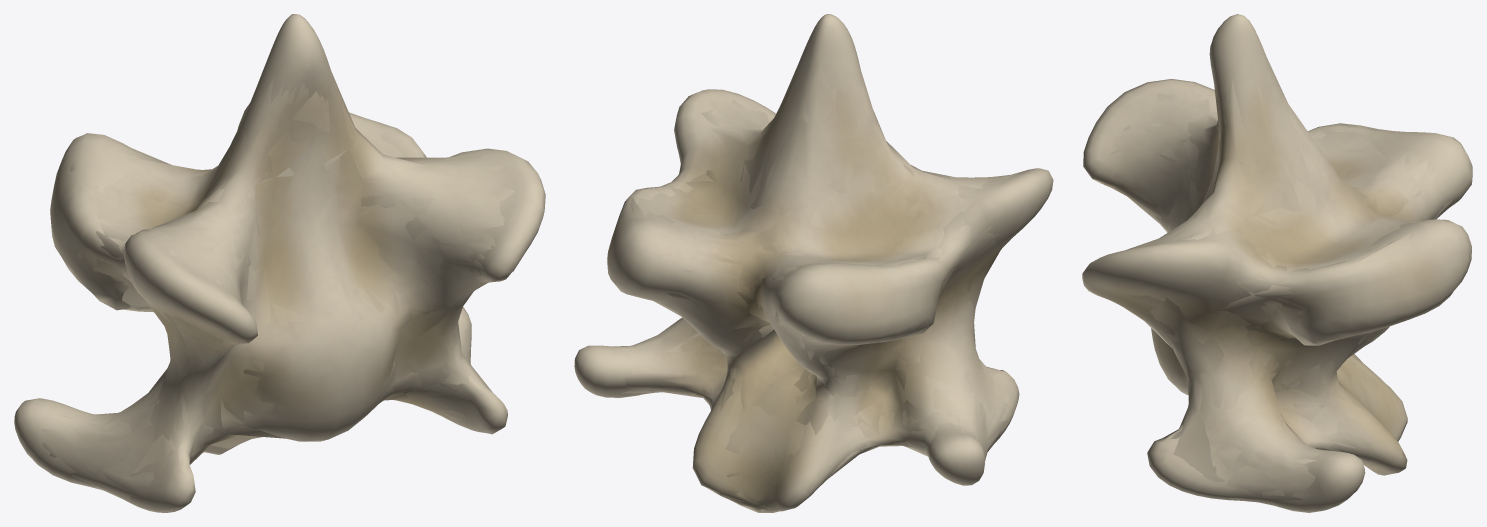
File: vertebra cervicalis 7.fbx
The picture shows the model from 3 angles, left to right: view 1: azimuth 30°, elevation 25°; view 2: azimuth 150°, elevation 25°; view 3: azimuth 270°, elevation 25°; orthographic projection. The views are drawn at different scales.
Parts seen in each view (by area): view 1: vertebra cervicalis 7 high, vertebra cervicalis 7 low, vertebra cervicalis 7; view 2: vertebra cervicalis 7 high, vertebra cervicalis 7 low, vertebra cervicalis 7; view 3: vertebra cervicalis 7 high, vertebra cervicalis 7 low, vertebra cervicalis 7.
Boxes of the visible parts, x1,y1,x2,y2 form: vertebra cervicalis 7 high: (14,14,545,512); vertebra cervicalis 7 low: (44,73,504,497); vertebra cervicalis 7: (40,72,514,501); vertebra cervicalis 7 high: (574,14,1053,512); vertebra cervicalis 7 low: (615,61,1008,483); vertebra cervicalis 7: (616,64,1018,511); vertebra cervicalis 7 high: (1082,14,1472,512); vertebra cervicalis 7 low: (1108,60,1452,505); vertebra cervicalis 7: (1112,78,1446,500).
Size of the model in its own units: 8.9 by 9.38 by 7.27.
Materials: 1 (1 with a texture image).
